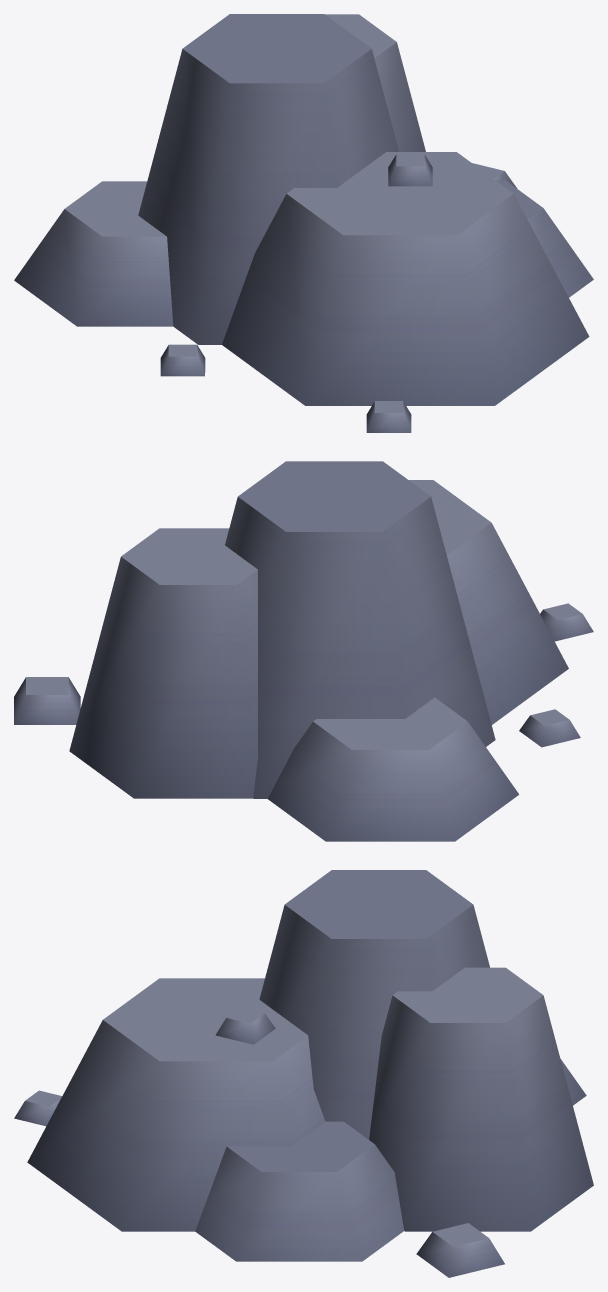
The model's file is rocks-small.glb.
3 views of the same model, one above another, from view 1: azimuth 30°, elevation 25°; view 2: azimuth 150°, elevation 25°; view 3: azimuth 270°, elevation 25° (orthographic). The views are drawn at different scales.
Parts seen in each view (by area): view 1: rocks-small; view 2: rocks-small; view 3: rocks-small.
Boxes of the visible parts, x1=… form: rocks-small: x1=14, y1=14, x2=593, y2=432; rocks-small: x1=14, y1=461, x2=593, y2=841; rocks-small: x1=14, y1=870, x2=593, y2=1277.
Size of the model in its own units: 1.03 by 0.4999 by 1.11.
Materials: 1 (1 with a texture image).
